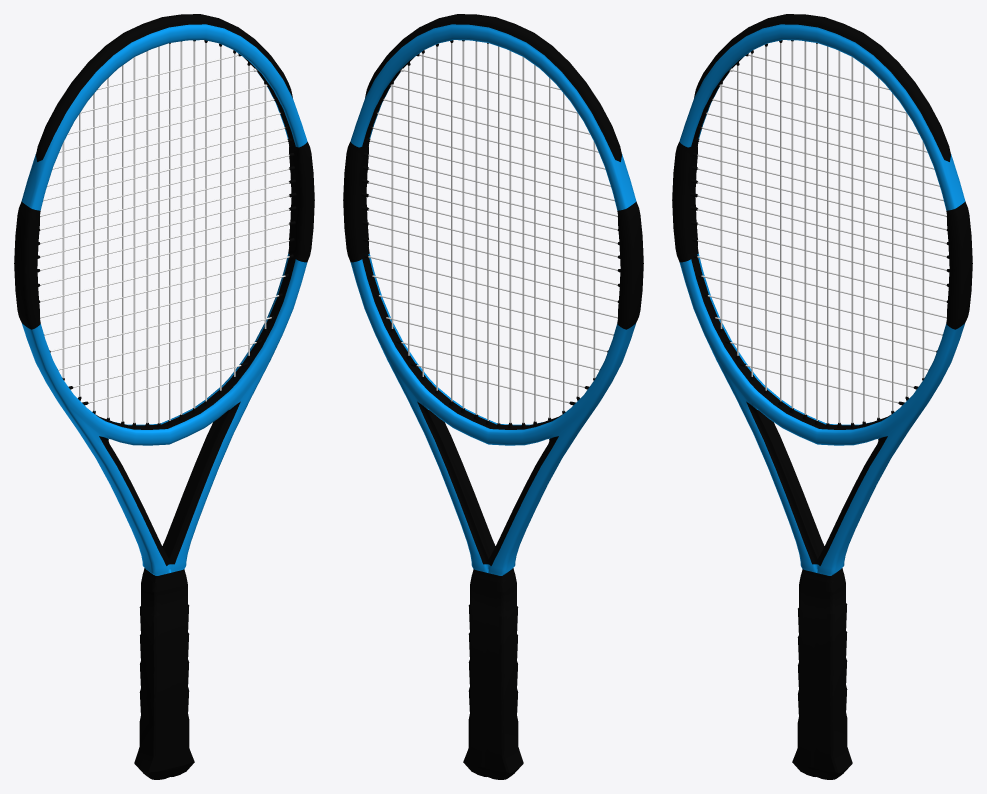
The picture shows the model from 3 angles, left to right: view 1: azimuth 30°, elevation 25°; view 2: azimuth 150°, elevation 25°; view 3: azimuth 330°, elevation 25°; orthographic projection.
Visible parts, largest first — view 1: Tennis Racket; view 2: Tennis Racket; view 3: Tennis Racket.
Boxes of the visible parts, x1,y1,x2,y2 form: Tennis Racket: [14, 14, 314, 779]; Tennis Racket: [343, 14, 643, 779]; Tennis Racket: [672, 14, 972, 779].
Size of the model in its own units: 279 by 691 by 25.15.
